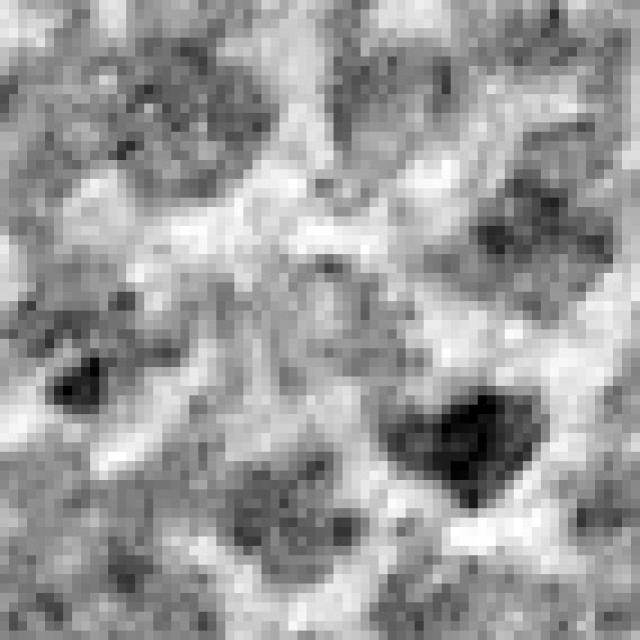inner: (176, 251, 443, 403)
lobe: (403, 129, 624, 324), (3, 252, 190, 431), (106, 34, 293, 205), (310, 42, 480, 216), (205, 432, 377, 600), (373, 380, 553, 514)
outer: (0, 0, 640, 640)
